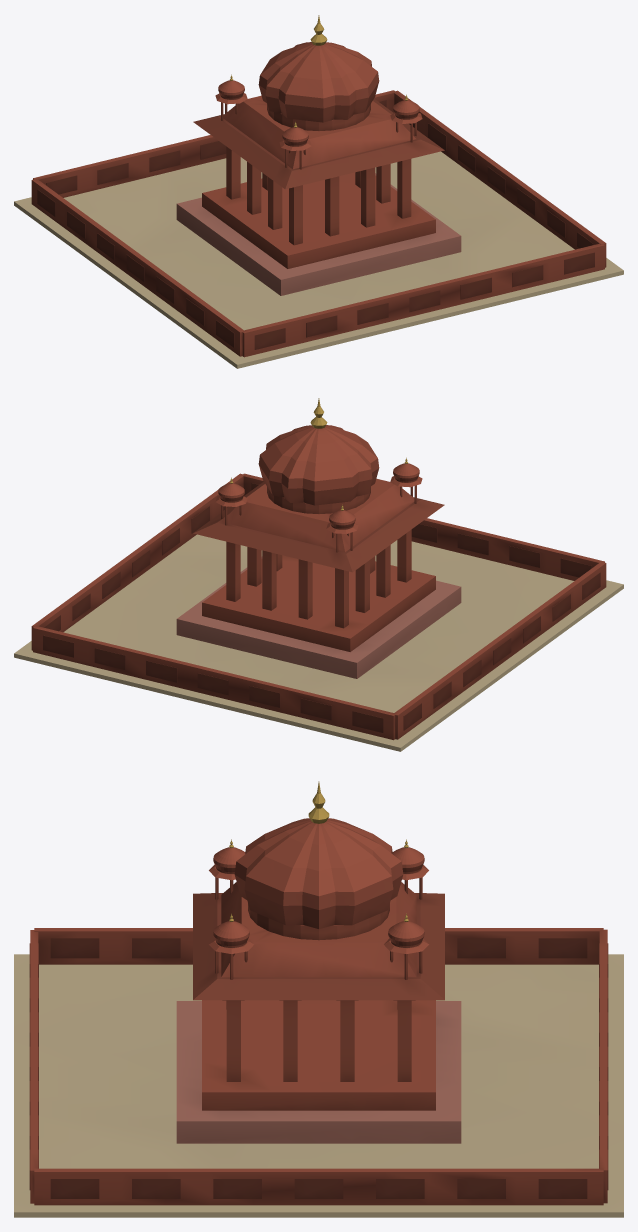
File: jaswant-singh-chhatri.glb
The picture shows the model from 3 angles, top to bottom: view 1: azimuth 30°, elevation 25°; view 2: azimuth 150°, elevation 25°; view 3: azimuth 270°, elevation 25°; orthographic projection. The views are drawn at different scales.
Parts seen in each view (by area): view 1: p0_enclosure, p2_dome, p1_pillars; view 2: p0_enclosure, p2_dome, p1_pillars; view 3: p0_enclosure, p2_dome, p1_pillars.
Boxes of the visible parts, box(x1,y1,x2,y2) form: p0_enclosure: box(14, 90, 623, 368); p2_dome: box(215, 15, 422, 169); p1_pillars: box(193, 98, 444, 245); p0_enclosure: box(14, 473, 623, 751); p2_dome: box(215, 398, 422, 552); p1_pillars: box(193, 481, 444, 628); p0_enclosure: box(14, 928, 623, 1217); p2_dome: box(209, 781, 428, 979); p1_pillars: box(193, 893, 444, 1081).
Bounding box in the file's own units: 30 × 16.75 × 30.
